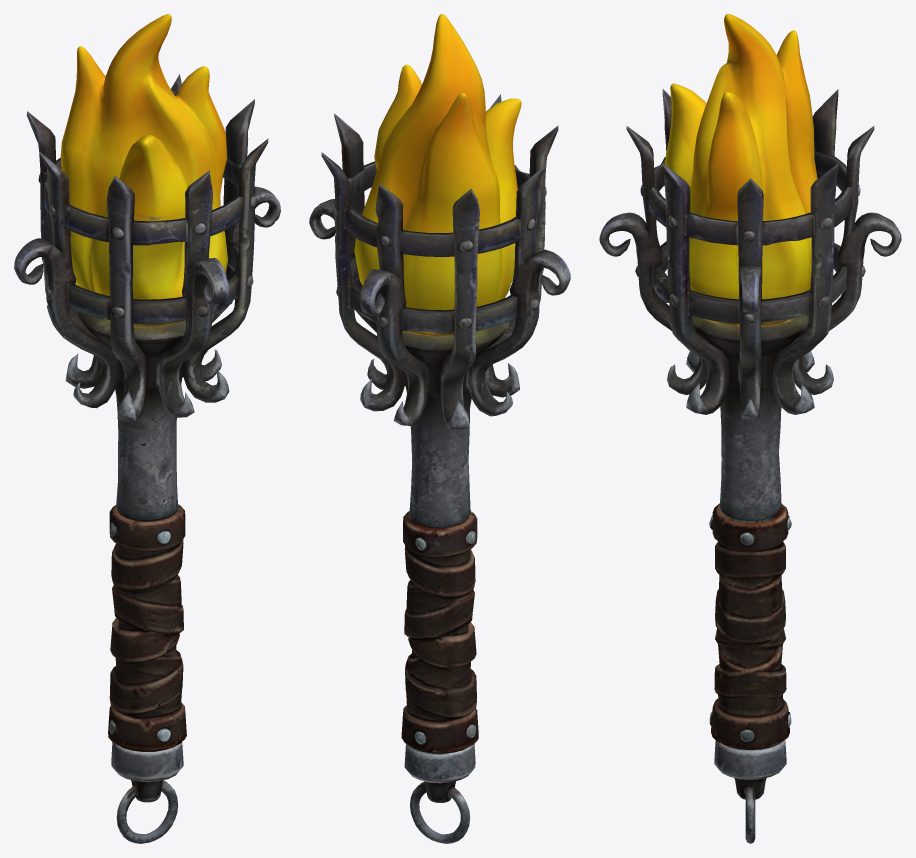
The model's file is SM_MedievalTorch.fbx.
3 views of the same model, side by side, from view 1: azimuth 30°, elevation 25°; view 2: azimuth 150°, elevation 25°; view 3: azimuth 270°, elevation 25° (orthographic).
Parts seen in each view (by area): view 1: e2c9bdfb_77ca_4b08_86aa_3a4fa31d932d; view 2: e2c9bdfb_77ca_4b08_86aa_3a4fa31d932d; view 3: e2c9bdfb_77ca_4b08_86aa_3a4fa31d932d.
Part boxes in pixels (x1,y1,x2,y2): e2c9bdfb_77ca_4b08_86aa_3a4fa31d932d: (14,14,280,843); e2c9bdfb_77ca_4b08_86aa_3a4fa31d932d: (309,14,570,843); e2c9bdfb_77ca_4b08_86aa_3a4fa31d932d: (599,14,901,843).
Bounding box in the file's own units: 0.3296 × 0.9995 × 0.3296.
1 material, 1 textured.
